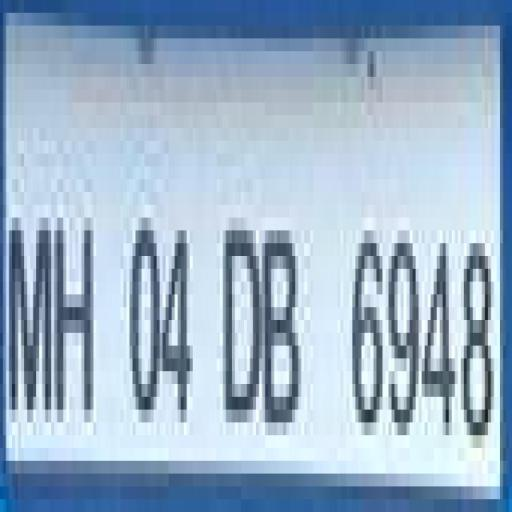number plate: (6, 25, 482, 512)
